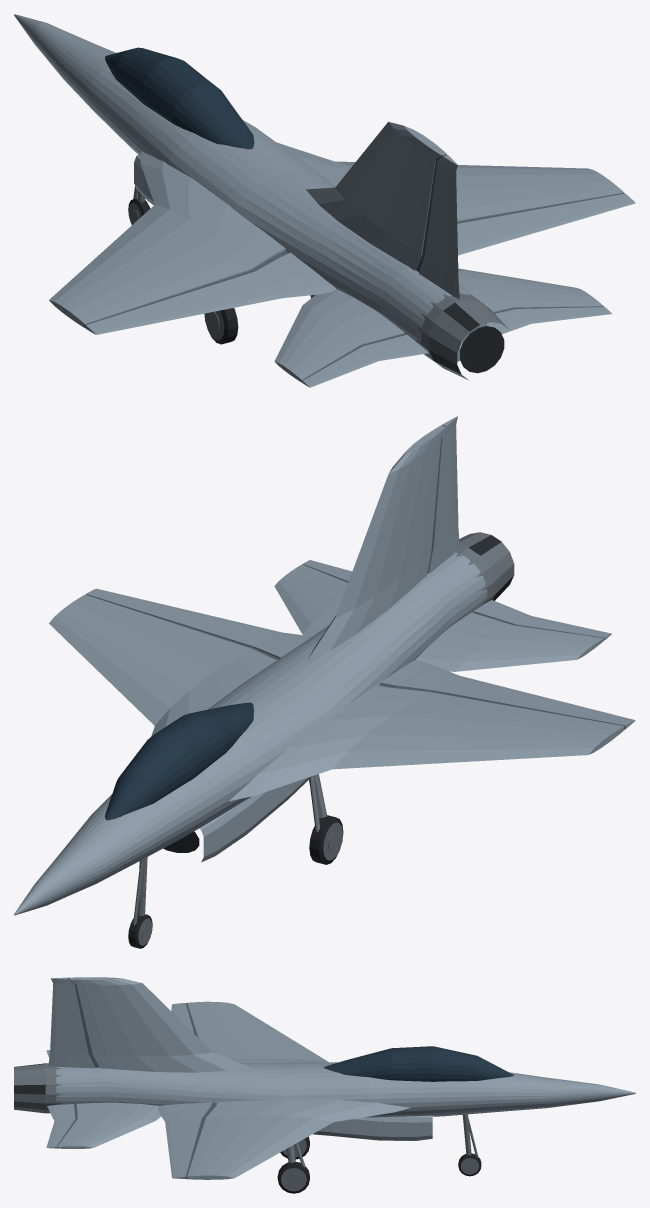
3 views of the same model, one above another, from view 1: azimuth 30°, elevation 25°; view 2: azimuth 150°, elevation 25°; view 3: azimuth 270°, elevation 25° (orthographic). The views are drawn at different scales.
Visible parts, largest first — view 1: airframe, wing, fin, wing_control, stabilator, canopy, stabilator_control, fin_control, exhaust, gear, wing_hinge; view 2: wing, airframe, fin, stabilator, wing_control, canopy, gear, chin_intake, fin_control, exhaust, stabilator_control, wing_hinge; view 3: airframe, wing, fin, canopy, stabilator, fin_control, wing_control, chin_intake, gear, exhaust, stabilator_control, wing_hinge (+1 smaller).
Boxes of the visible parts, left/top/right/bottom form: airframe: left=14, top=14, right=504, bottom=373; wing: left=49, top=142, right=624, bottom=327; fin: left=306, top=122, right=446, bottom=270; wing_control: left=86, top=193, right=635, bottom=334; stabilator: left=274, top=268, right=603, bottom=382; canopy: left=105, top=47, right=254, bottom=149; stabilator_control: left=302, top=307, right=611, bottom=387; fin_control: left=418, top=155, right=459, bottom=299; exhaust: left=416, top=292, right=508, bottom=379; gear: left=128, top=186, right=314, bottom=344; wing_hinge: left=84, top=193, right=624, bottom=328; wing: left=49, top=594, right=624, bottom=801; airframe: left=14, top=552, right=487, bottom=915; fin: left=306, top=425, right=445, bottom=662; stabilator: left=274, top=564, right=604, bottom=671; wing_control: left=86, top=588, right=635, bottom=728; canopy: left=105, top=702, right=253, bottom=820; gear: left=128, top=774, right=343, bottom=948; chin_intake: left=199, top=776, right=312, bottom=862; fin_control: left=429, top=416, right=459, bottom=573; exhaust: left=456, top=532, right=514, bottom=604; stabilator_control: left=303, top=560, right=611, bottom=639; wing_hinge: left=85, top=594, right=625, bottom=729; airframe: left=56, top=1062, right=635, bottom=1117; wing: left=187, top=1001, right=410, bottom=1179; fin: left=69, top=977, right=251, bottom=1072; canopy: left=323, top=1046, right=513, bottom=1081; stabilator: left=57, top=1102, right=161, bottom=1148; fin_control: left=48, top=977, right=95, bottom=1068; wing_control: left=157, top=1003, right=212, bottom=1178; chin_intake: left=313, top=1115, right=432, bottom=1140; gear: left=277, top=1114, right=481, bottom=1193; exhaust: left=14, top=1063, right=62, bottom=1113; stabilator_control: left=46, top=1050, right=75, bottom=1148; wing_hinge: left=185, top=1003, right=217, bottom=1178.
Bounding box in the file's own units: 9.96 × 5.26 × 15.06.
